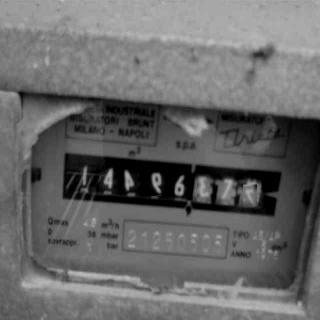2: (75, 164, 93, 189)
4: (198, 175, 211, 202)
5: (101, 162, 118, 192), (124, 166, 138, 192)
7: (171, 171, 189, 199)
8: (220, 175, 236, 204), (243, 185, 257, 208)
object: (148, 170, 165, 196)
